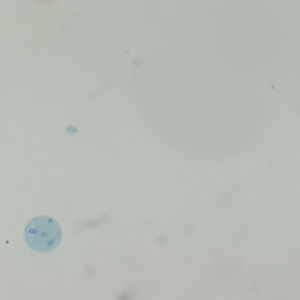aggregate reticulocyte: (22, 215, 63, 254)
